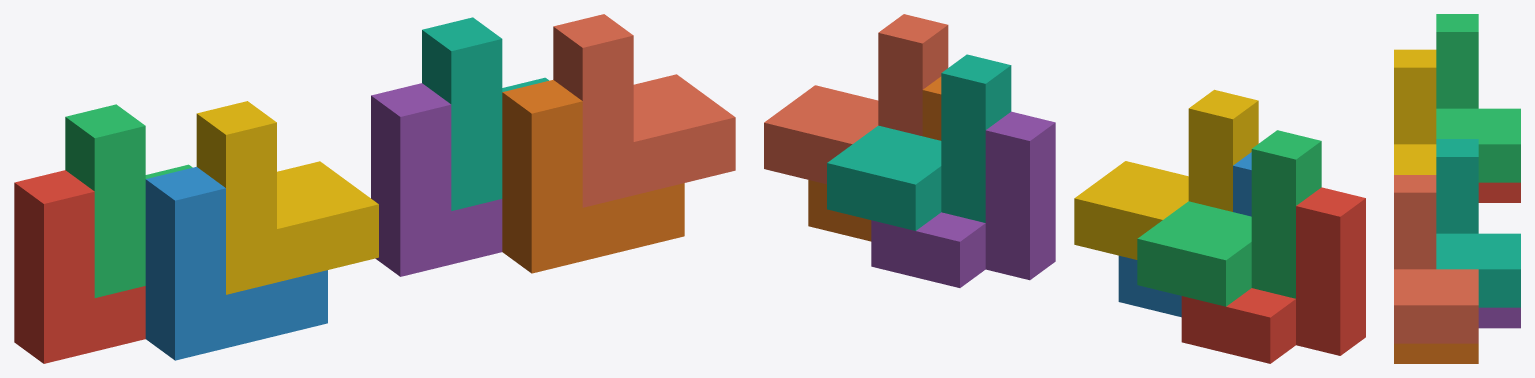
The model's file is tiling.obj.
The picture shows the model from 3 angles, left to right: view 1: azimuth 30°, elevation 25°; view 2: azimuth 150°, elevation 25°; view 3: azimuth 270°, elevation 25°; orthographic projection. The views are drawn at different scales.
Visible parts, largest first — view 1: copy_1_domain_8, copy_1_domain_4, copy_1_domain_6, copy_1_domain_2, copy_1_domain_1, copy_1_domain_5, copy_1_domain_3, copy_1_domain_7; view 2: copy_1_domain_7, copy_1_domain_3, copy_1_domain_5, copy_1_domain_1, copy_1_domain_4, copy_1_domain_8, copy_1_domain_6, copy_1_domain_2; view 3: copy_1_domain_8, copy_1_domain_7, copy_1_domain_3, copy_1_domain_4, copy_1_domain_6, copy_1_domain_5, copy_1_domain_1.
Part boxes in pixels (x1,y1,x2,y2): copy_1_domain_8: (553,14,735,207); copy_1_domain_4: (196,101,378,294); copy_1_domain_6: (502,80,684,273); copy_1_domain_2: (145,167,327,360); copy_1_domain_1: (14,170,145,363); copy_1_domain_5: (371,83,502,276); copy_1_domain_3: (65,104,192,297); copy_1_domain_7: (422,17,548,210); copy_1_domain_7: (827,54,1011,230); copy_1_domain_3: (1137,130,1321,306); copy_1_domain_5: (871,111,1055,287); copy_1_domain_1: (1181,187,1365,363); copy_1_domain_4: (1074,89,1258,259); copy_1_domain_8: (764,14,948,184); copy_1_domain_6: (808,76,941,241); copy_1_domain_2: (1118,152,1251,317); copy_1_domain_8: (1394,175,1478,343); copy_1_domain_7: (1436,139,1520,307); copy_1_domain_3: (1436,14,1520,182); copy_1_domain_4: (1394,49,1436,174); copy_1_domain_6: (1394,343,1478,363); copy_1_domain_5: (1478,307,1520,328); copy_1_domain_1: (1478,182,1520,202).
Bounding box in the file's own units: 13 × 4 × 3.
